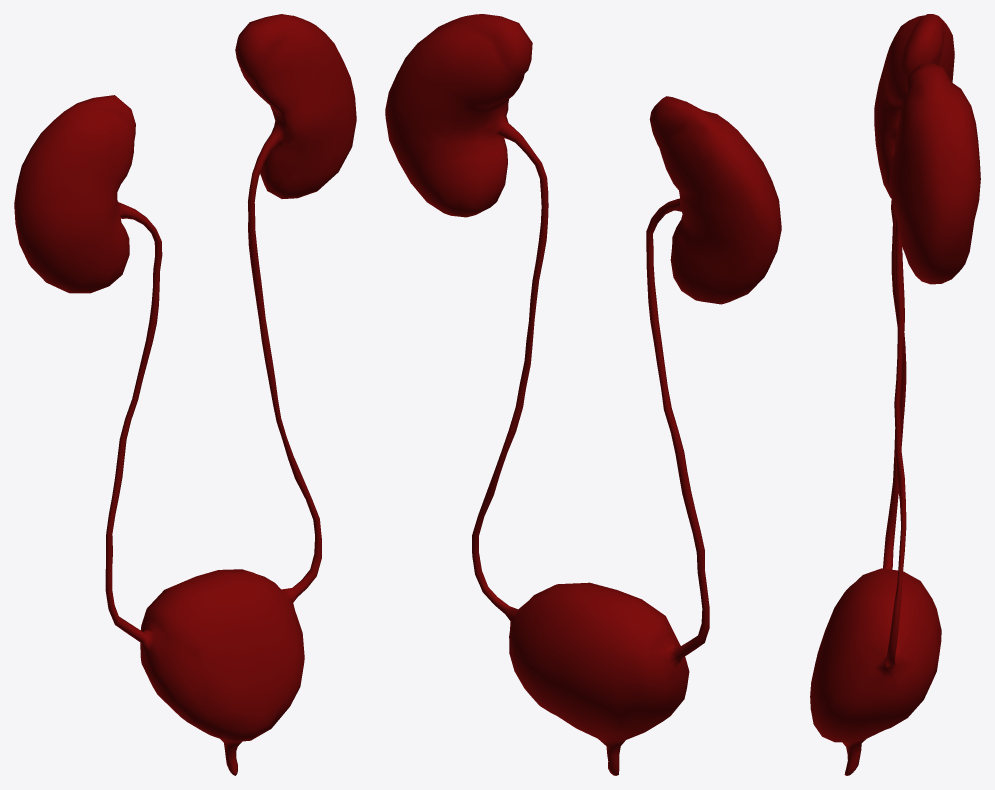
The model's file is kidney.glb.
The picture shows the model from 3 angles, left to right: view 1: azimuth 30°, elevation 25°; view 2: azimuth 150°, elevation 25°; view 3: azimuth 270°, elevation 25°; orthographic projection. The views are drawn at different scales.
Parts seen in each view (by area): view 1: model_11; view 2: model_11; view 3: model_11.
Part boxes in pixels (<box>): model_11: <box>14,14,356,775</box>; model_11: <box>385,14,781,775</box>; model_11: <box>810,14,980,775</box>.
Bounding box in the file's own units: 0.8661 × 1.69 × 0.3526.
